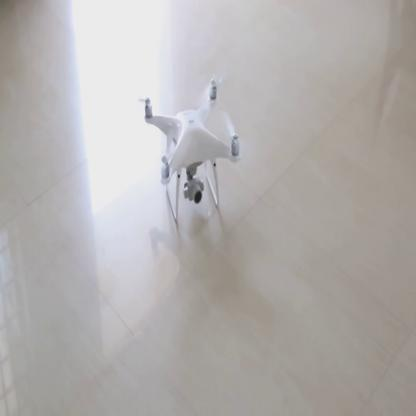drone: (139, 73, 254, 198)
